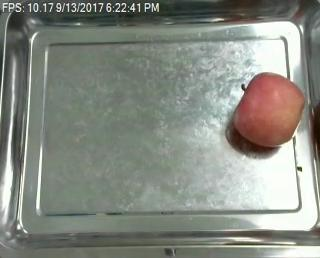apple: (231, 71, 306, 148)
